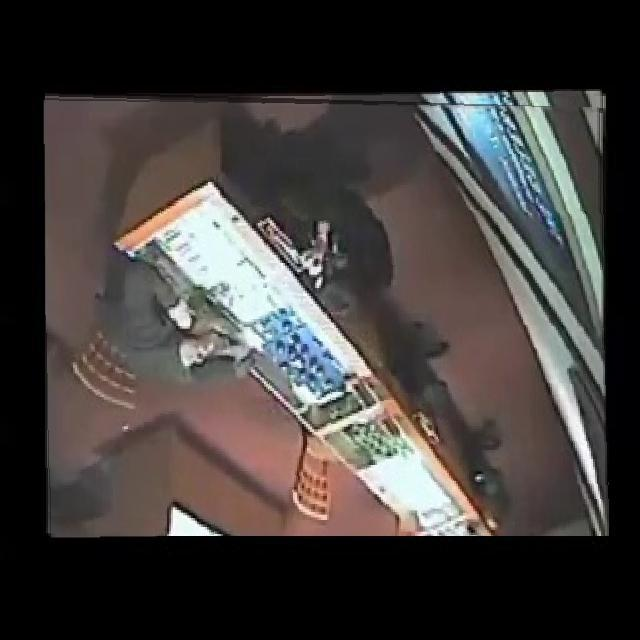Normal: (45, 91, 609, 536)
